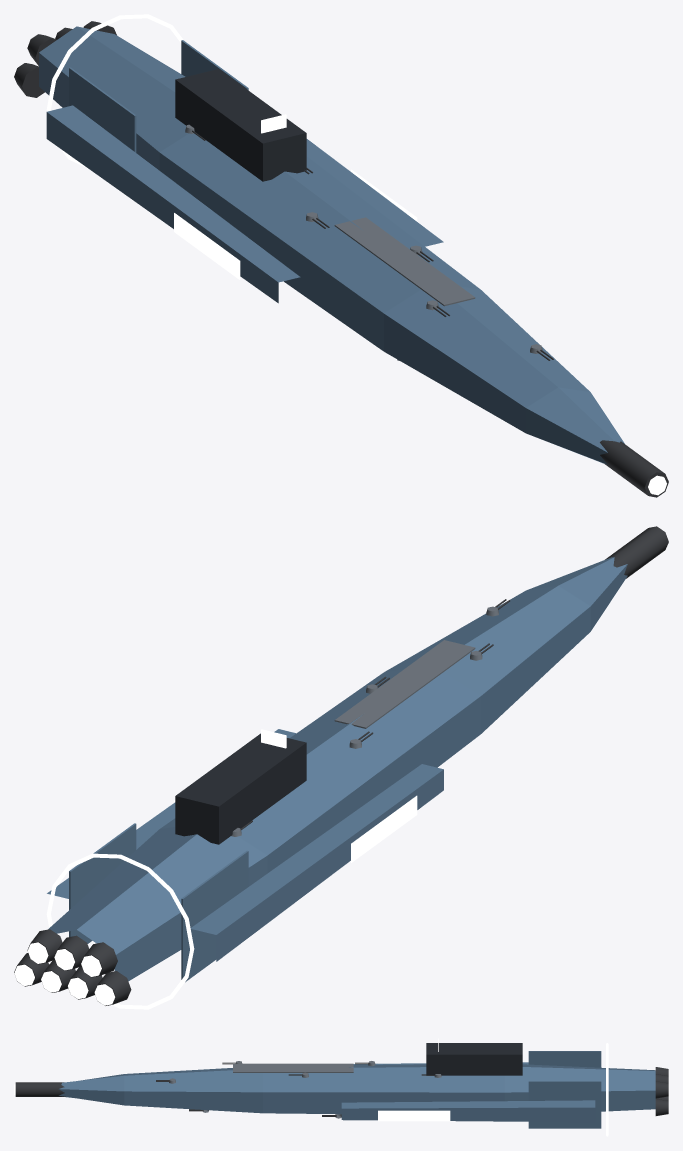
File: space_ship_battleship_mk6.glb
The picture shows the model from 3 angles, top to bottom: view 1: azimuth 30°, elevation 25°; view 2: azimuth 150°, elevation 25°; view 3: azimuth 270°, elevation 25°; orthographic projection. The views are drawn at different scales.
Visible parts, largest first — view 1: body, main_gun, hangar_r, engine_0; view 2: body, main_gun, hangar_r, engine_1, engine_0, engine_5, engine_3, engine_2, engine_6, engine_4; view 3: body, hangar_l, main_gun, engine_5, engine_6.
Part boxes in pixels (box(x1,y1,x2,y2)): body: box(39, 14, 624, 464); main_gun: box(600, 440, 668, 497); hangar_r: box(174, 213, 240, 279); engine_0: box(14, 63, 44, 97); body: box(46, 557, 627, 1009); main_gun: box(605, 526, 668, 578); hangar_r: box(351, 795, 417, 862); engine_1: box(81, 942, 117, 977); engine_0: box(94, 971, 131, 1005); engine_5: box(27, 929, 62, 964); engine_3: box(54, 935, 88, 970); engine_2: box(67, 966, 102, 999); engine_6: box(14, 953, 49, 986); engine_4: box(41, 960, 75, 992); body: box(58, 1038, 655, 1136); hangar_l: box(378, 1110, 450, 1121); main_gun: box(14, 1082, 65, 1096); engine_5: box(655, 1081, 668, 1098); engine_6: box(655, 1099, 668, 1115).
Size of what is drawn, in the model's own units: 28.5 by 25.12 by 165.
